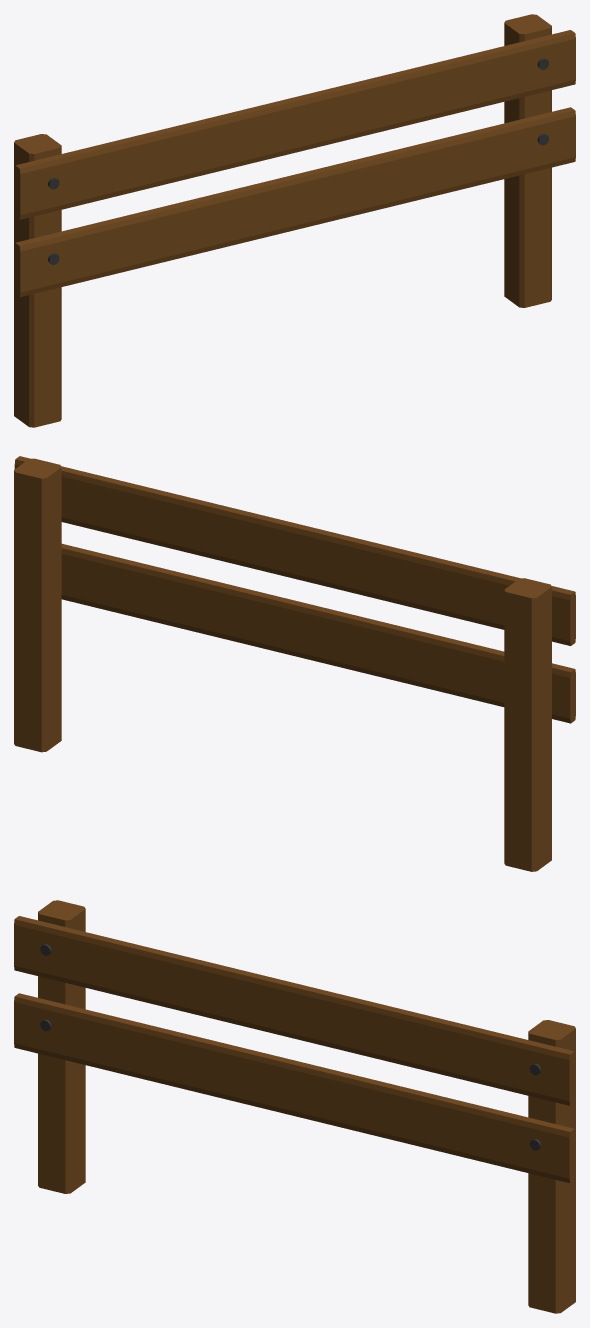
The model's file is Fence.fbx.
3 views of the same model, one above another, from view 1: azimuth 30°, elevation 25°; view 2: azimuth 150°, elevation 25°; view 3: azimuth 330°, elevation 25° (orthographic).
Visible parts, largest first — view 1: Cube.002, Cube.003, Cube, Cube.001; view 2: Cube.003, Cube.002, Cube, Cube.001; view 3: Cube.002, Cube.003, Cube.001, Cube.
Part boxes in pixels (x1,y1,x2,y2): Cube.002: (14, 107, 575, 297); Cube.003: (14, 30, 575, 219); Cube: (14, 134, 61, 427); Cube.001: (504, 14, 551, 307); Cube.003: (14, 456, 575, 645); Cube.002: (61, 543, 575, 723); Cube: (504, 578, 551, 871); Cube.001: (14, 458, 61, 752); Cube.002: (14, 993, 575, 1183); Cube.003: (14, 916, 575, 1105); Cube.001: (528, 1020, 575, 1313); Cube: (38, 900, 85, 1193).
Bounding box in the file's own units: 6800 × 3200 × 553.
